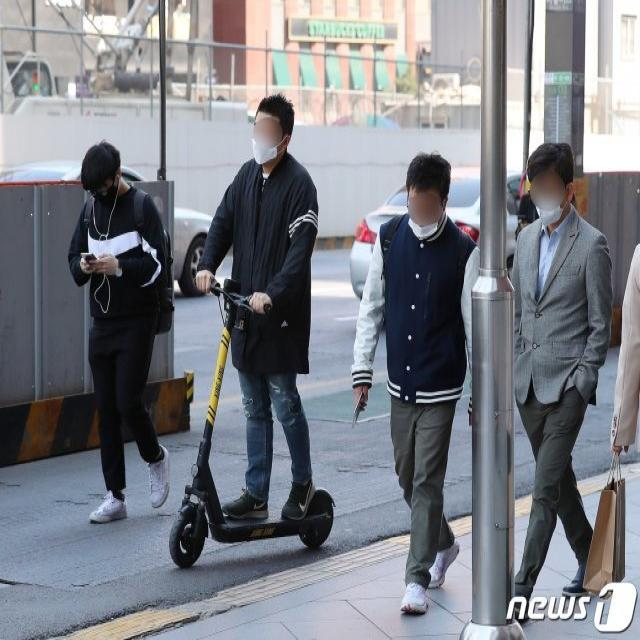non-helmet: (163, 87, 337, 577)
